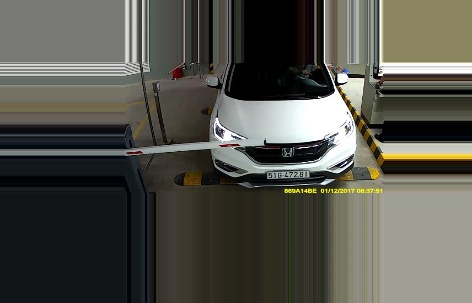plate: (263, 166, 311, 180)
